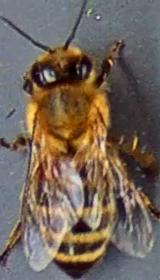varroa_mite: (29, 152, 62, 182)
